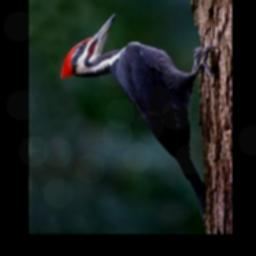Woodpecker: (60, 13, 220, 231)
